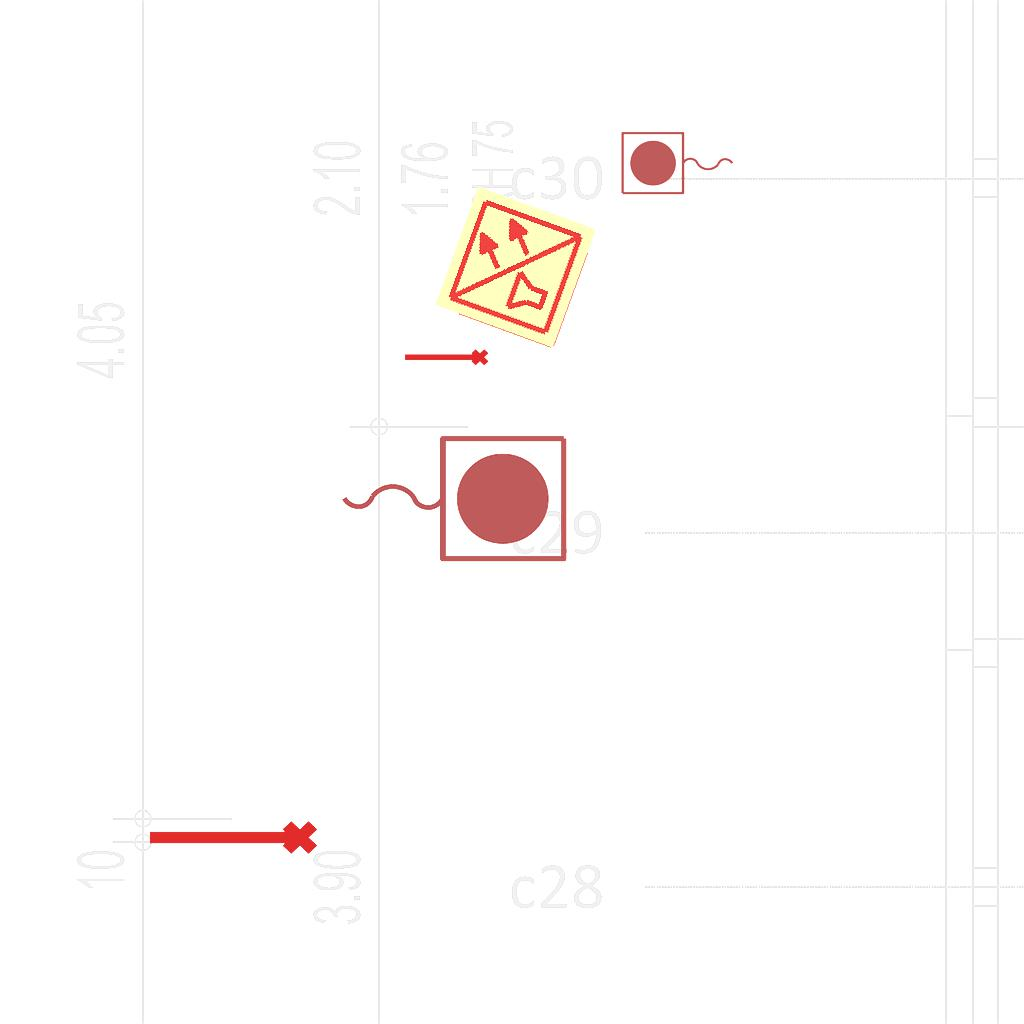ASR_Ansaugoeffnung: (144, 817, 320, 863), (402, 347, 490, 370)
OKW_Multisensormelder_(Kombination_optischer_Rauch-Kahlenmonoxid_Waerme-Melder): (431, 182, 601, 352)
Zugtaster: (331, 425, 575, 569), (617, 128, 739, 200)
